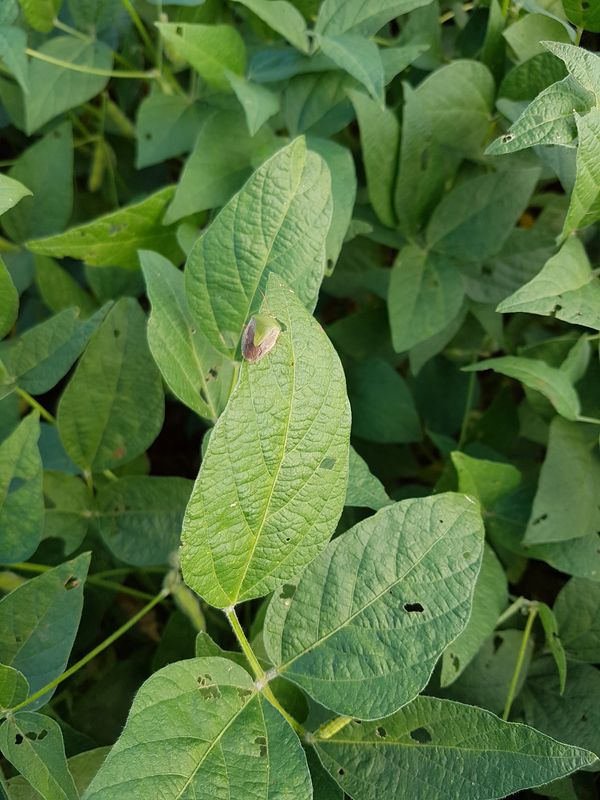Anticarsia_gemmatalis: (314, 707, 359, 742)
Edessa_meditabunda: (232, 303, 288, 369)
